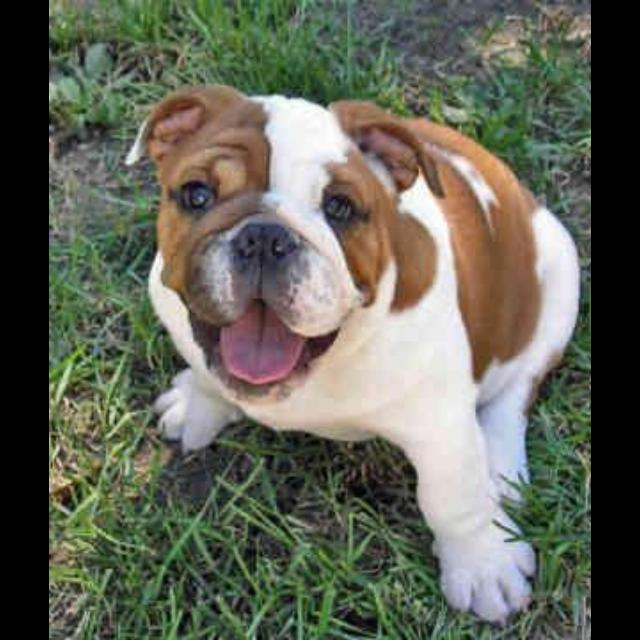bullmastiff: (125, 84, 581, 629)
